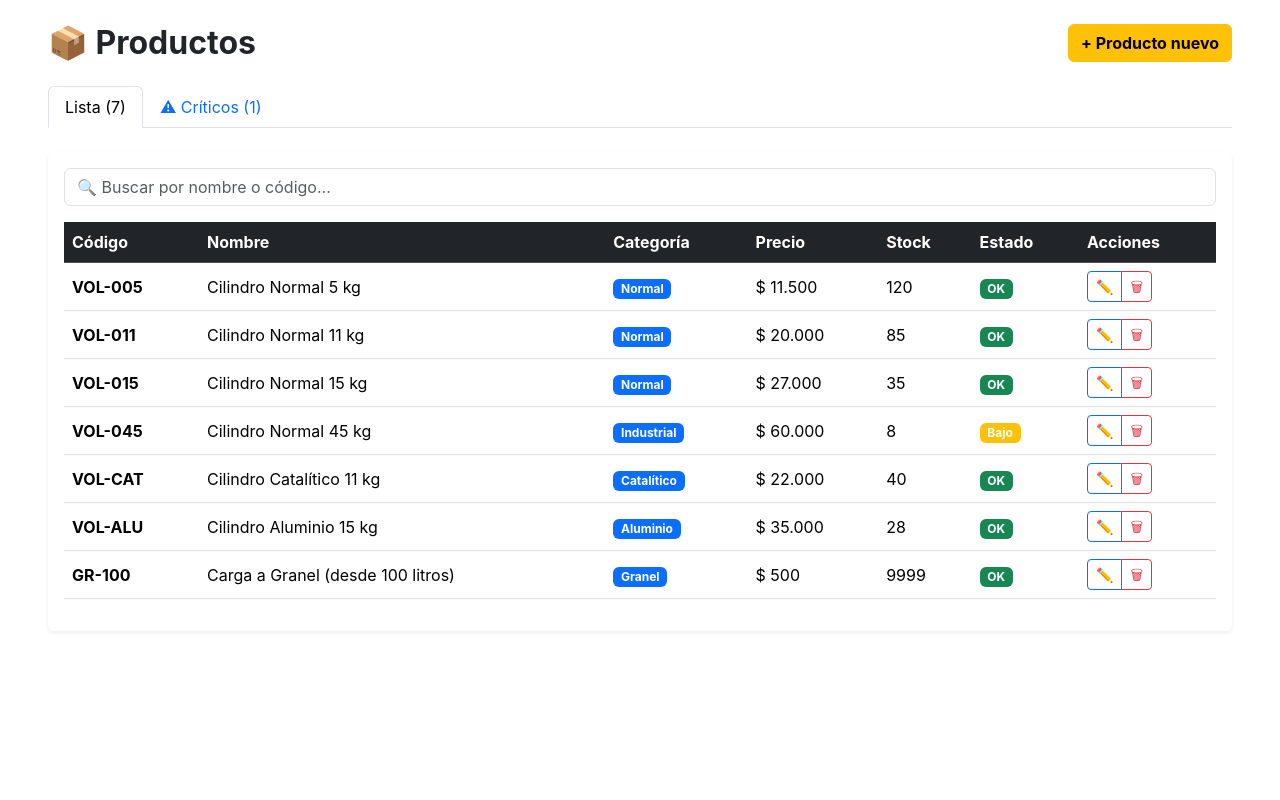
Productos admin - listas y renderizado condicional › muestra la pestaña de stock crítico con los productos bajo mínimo
The width and height of the screenshot is (1280, 800).
Click the tab "⚠ Críticos (1)".
click(211, 107)  # box [143,86,278,128]
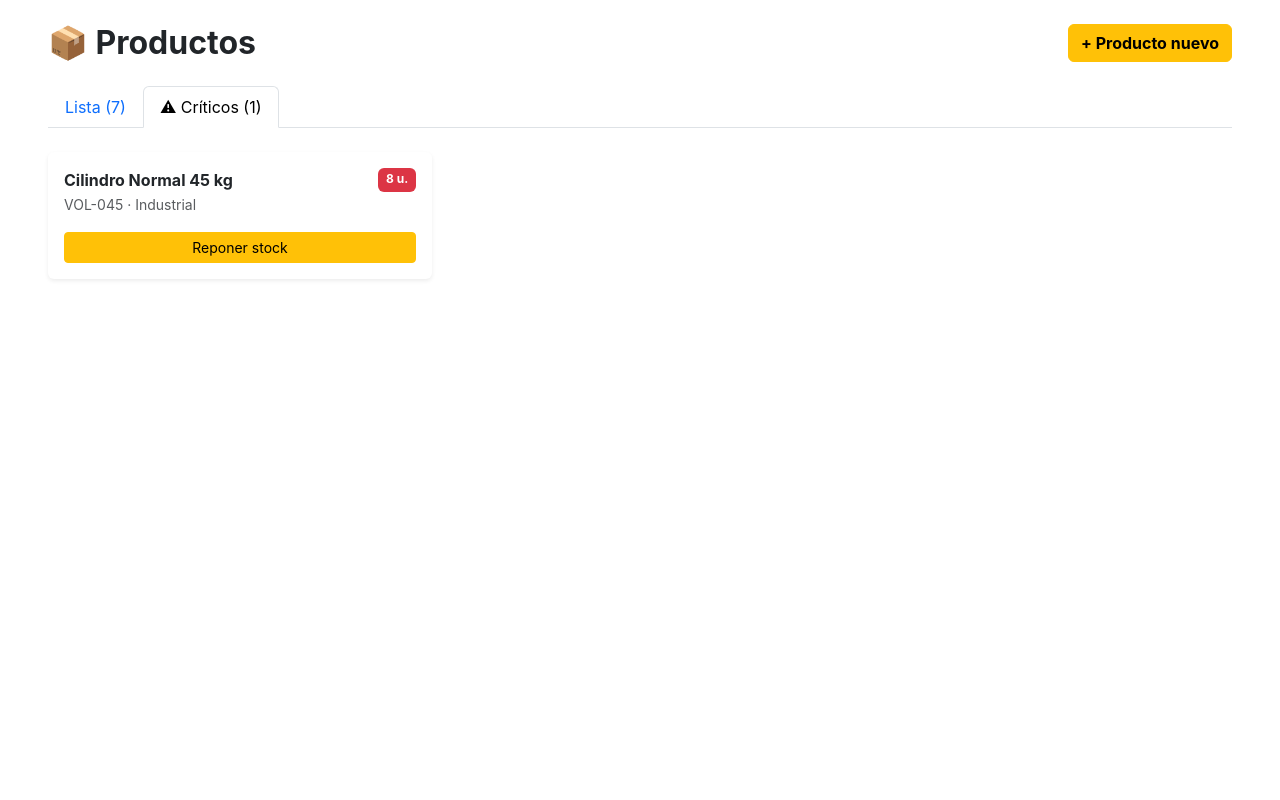
Now the button "Reponer stock" is shown, box [64,232,416,263]
